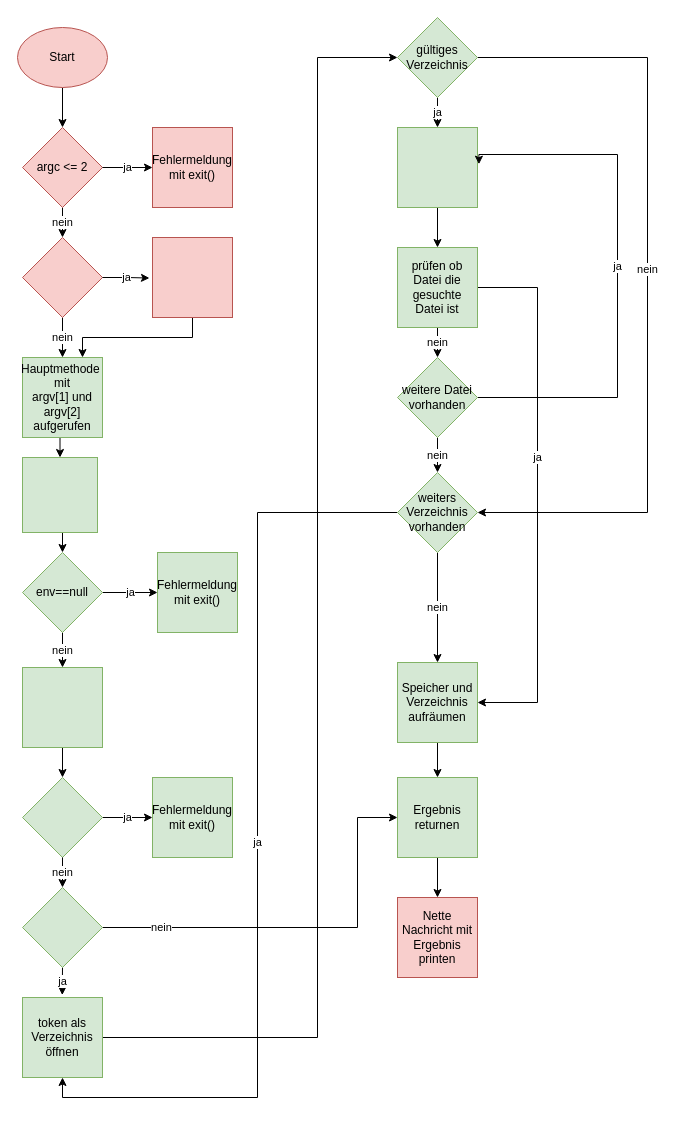
The diagram is 675 pixels wide and 1123 high, and some of its shapes have lost their labels. The box of each missing label's shape, as (x1, y1, x2, y2) in pixels:
argc > 3: (22, 236, 102, 318)
Datei anschauen: (396, 126, 478, 208)
env kopieren & env-copy an ":" aufteilen: (22, 666, 102, 748)
ENV wird mit getenv() ausgelesen: (22, 456, 98, 532)
kopieren fehlgeschlagen: (22, 776, 102, 858)
token != null: (22, 886, 102, 968)
Warnung ausgeben, dass zu viele Argumente ignoriert werden: (152, 236, 232, 318)
